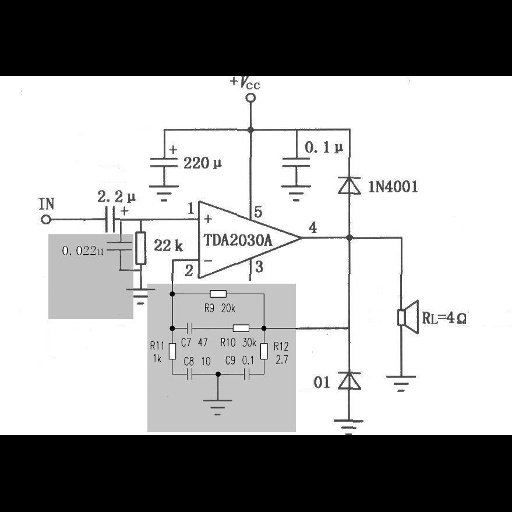amplifier: (196, 201, 307, 280)
capacitor: (278, 153, 312, 174), (104, 239, 133, 254), (240, 363, 253, 383), (182, 366, 197, 383), (183, 319, 195, 336)
firstpolarcapacitor: (145, 143, 181, 173), (99, 206, 129, 234)
firstresistance: (134, 227, 149, 268), (230, 321, 255, 333), (259, 339, 270, 365), (205, 288, 230, 299), (167, 341, 178, 363)
gnd: (198, 397, 237, 418), (384, 374, 422, 395), (276, 184, 316, 203), (144, 182, 180, 203), (330, 417, 365, 436), (122, 287, 157, 306)
loudspeaker: (390, 299, 422, 337)
seconddiode: (333, 170, 364, 201), (334, 367, 366, 395)
